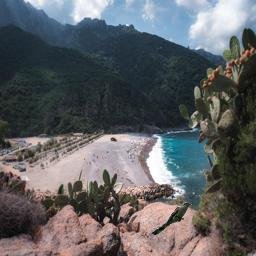Cuckoo: (151, 202, 193, 235)
